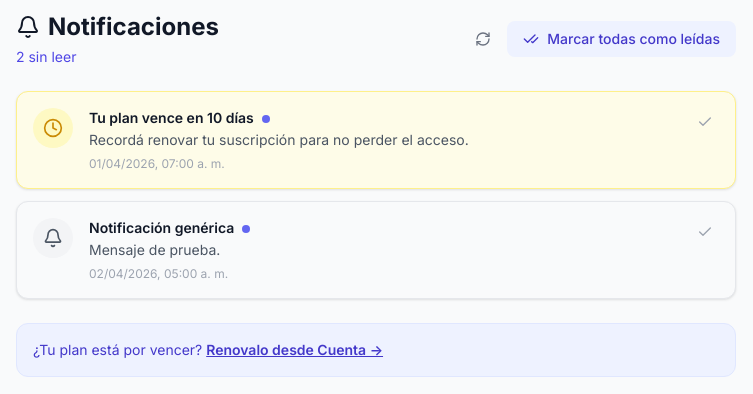
Test: Notificaciones — marcar todas como leídas › actualiza todas las notificaciones a leídas en el estado local
Click the button "Marcar todas como leídas" at [622, 39], box 507,21 -> 736,57
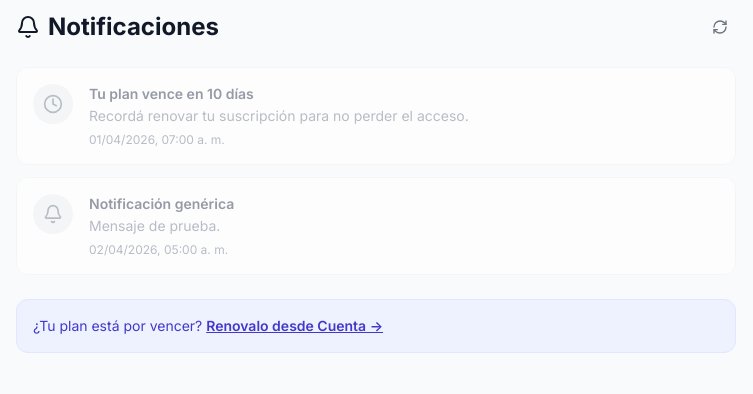
Expected: the text "sin leer" is gone
